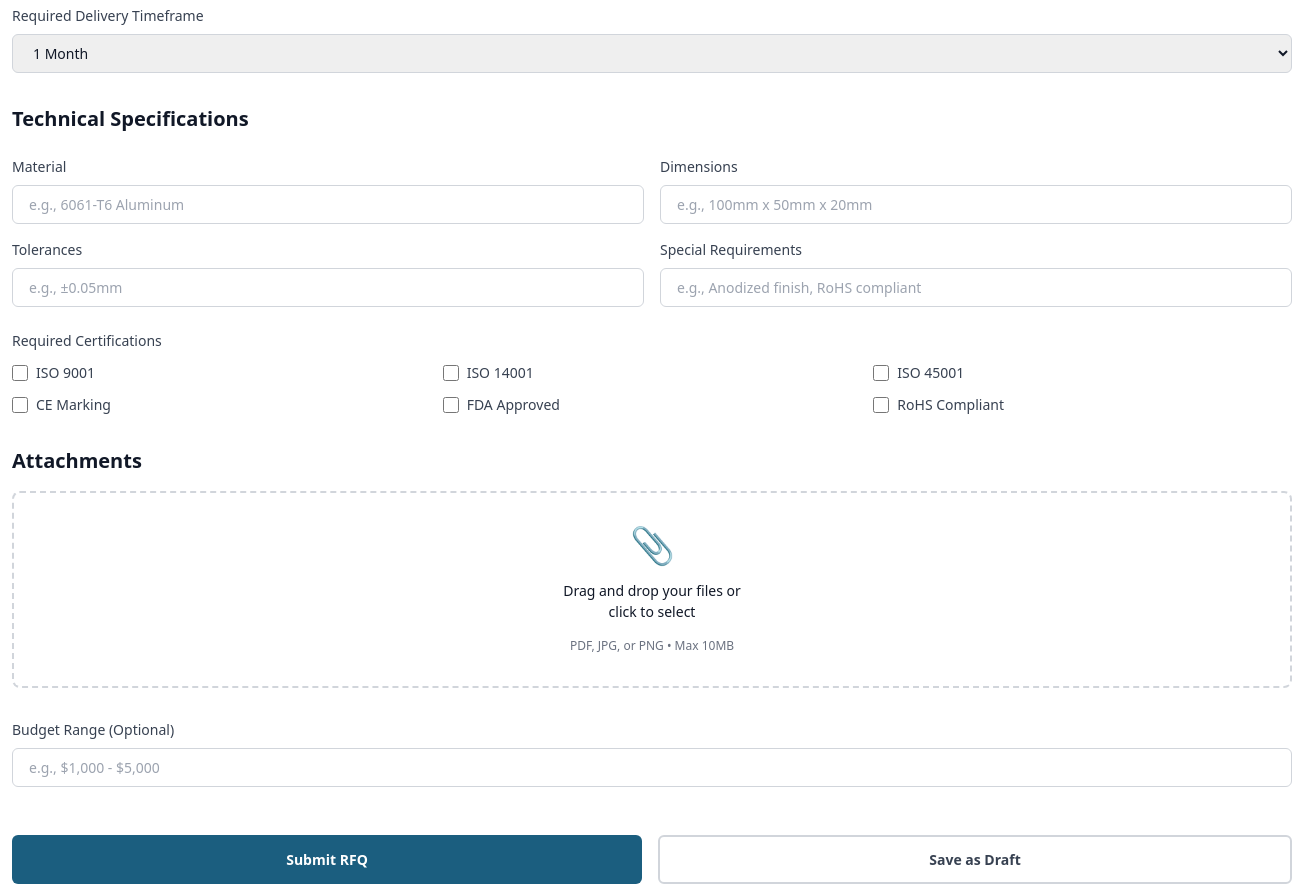
Test: RFQForm Component › validates required fields on submit
(page scrolled)
Step 1. Click the button "Submit RFQ" → (327, 860), box [12,835,642,883]
(page scrolled)
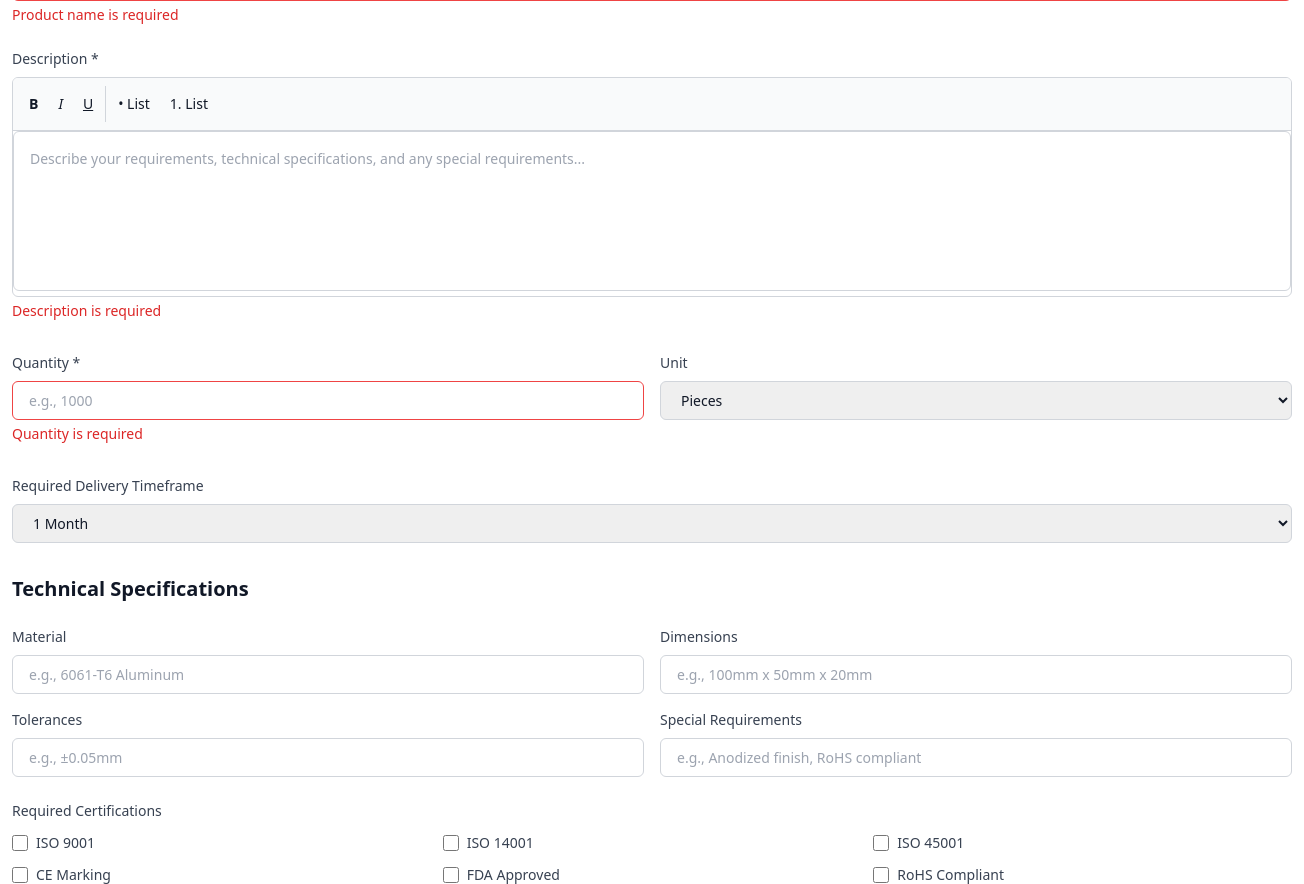
Check: the text "Product name is required" is shown, box [12,5,178,24]
Check: the text "Description is required" is shown, box [12,301,161,320]
Check: the text "Quantity is required" is shown, box [12,424,143,443]
